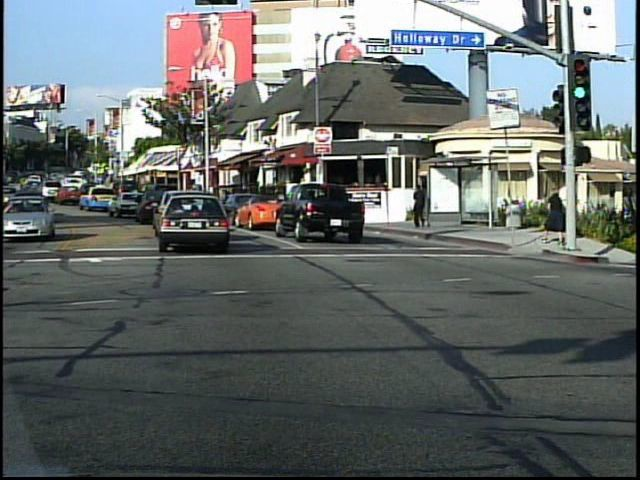person: (540, 184, 567, 246), (408, 182, 434, 236)
